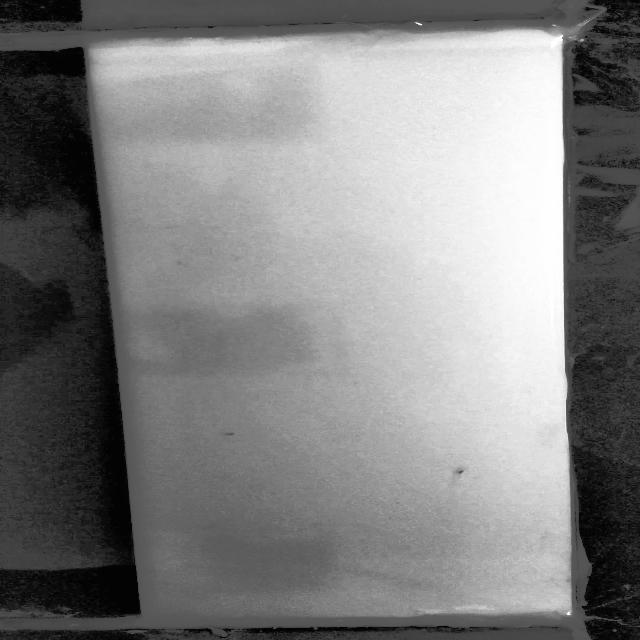shrimp: (447, 465, 476, 488), (217, 428, 240, 438)
